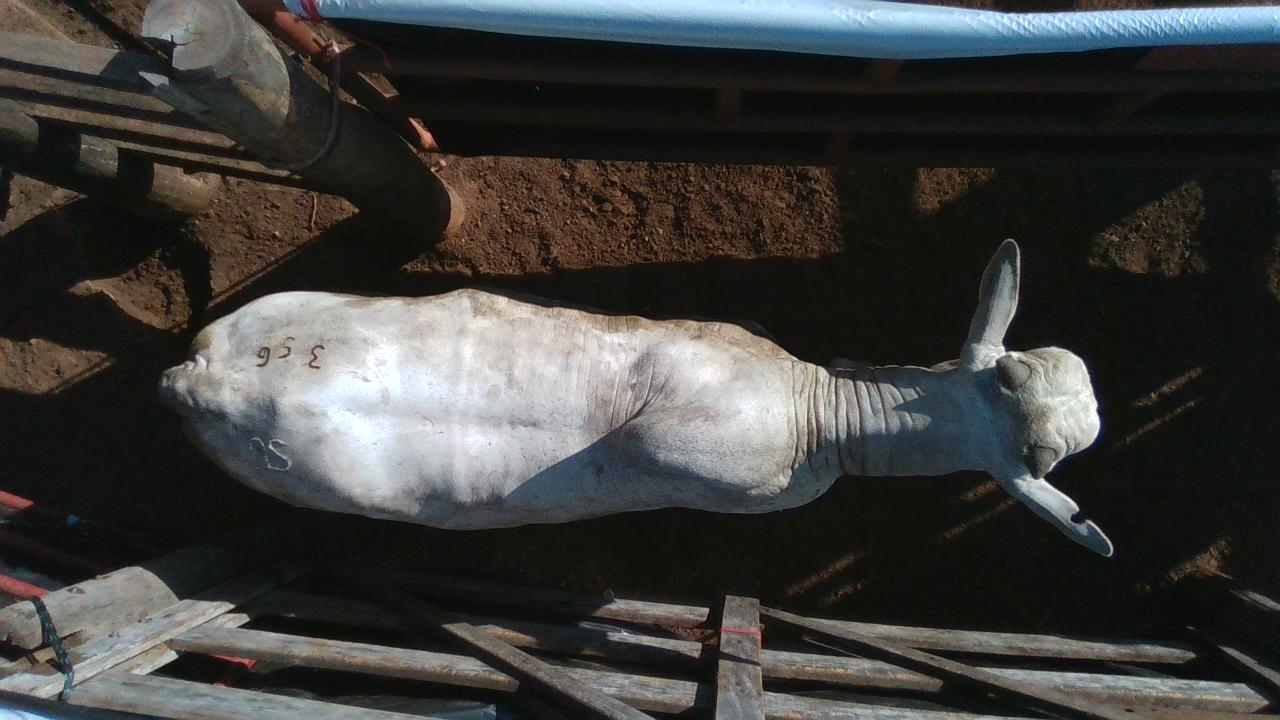cattle: (156, 236, 1115, 558)
